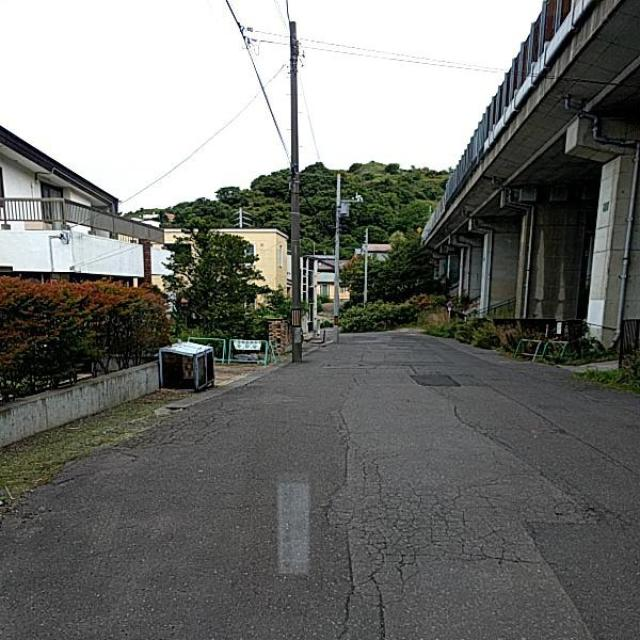Crack: (285, 335, 572, 640)
